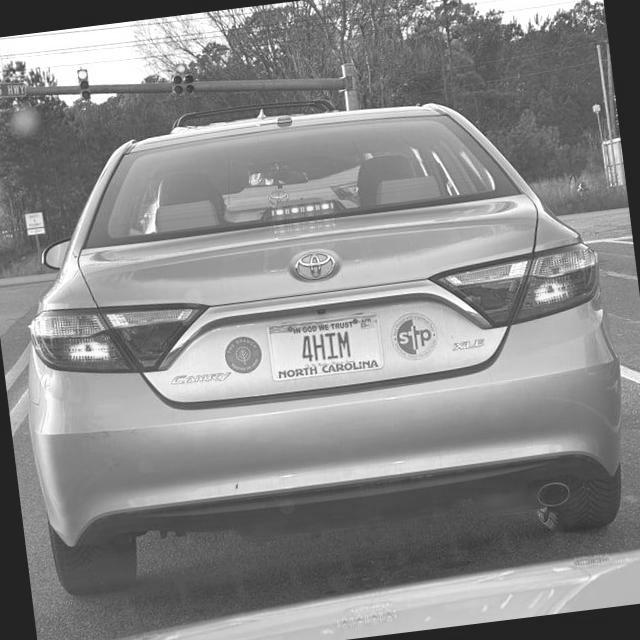LicensePlate: (264, 309, 383, 381)
